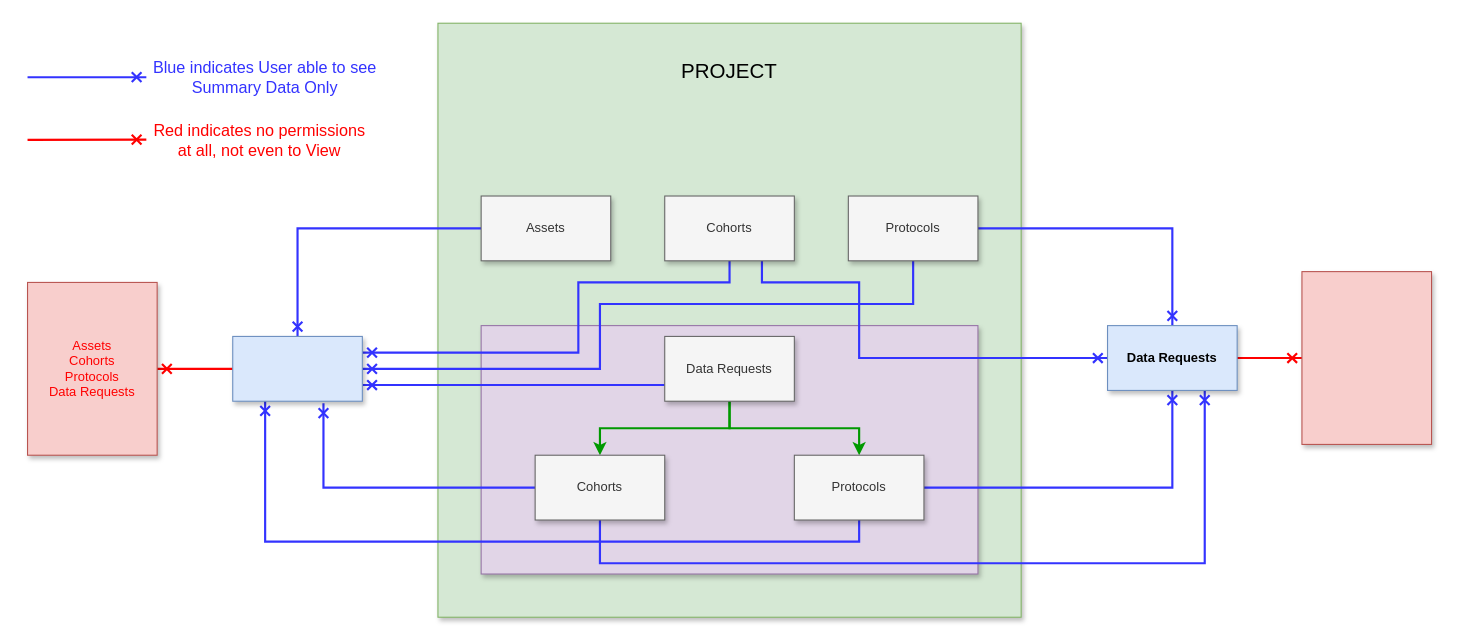
The diagram is 1457 pixels wide and 644 high, and some of its shapes have lost their labels. Here are the shapes that lost their labels. From the top down, the centre of each, then its label:
At [298,370]: "Projects".
At [1367,359]: "Projects Cohorts Protocols".
